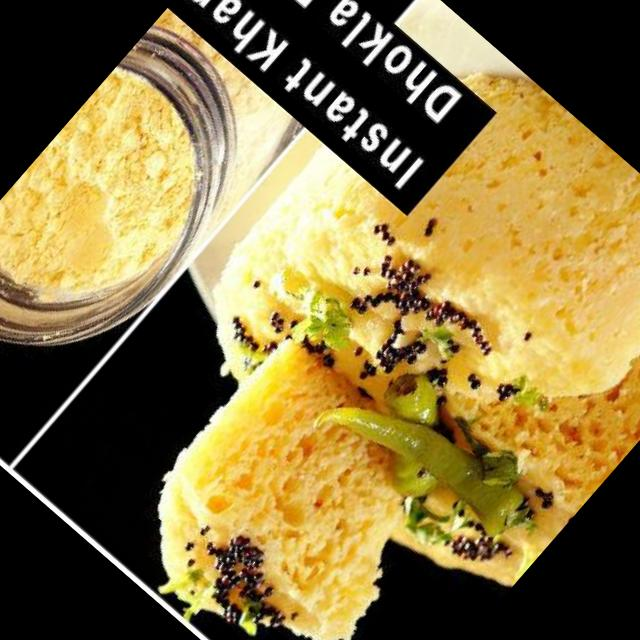dhokla: (191, 27, 640, 606), (98, 324, 472, 640)
